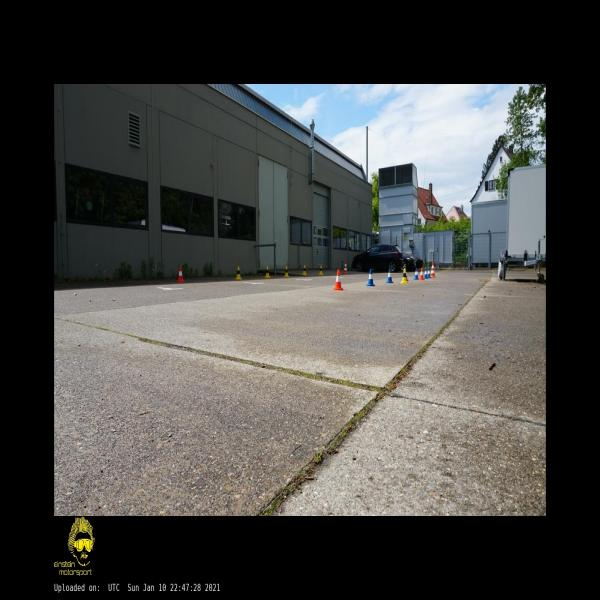blue_cone: (366, 269, 375, 286), (386, 268, 393, 283), (413, 268, 419, 280), (427, 268, 432, 278), (424, 268, 428, 278)
large_orange_cone: (430, 262, 436, 277), (342, 261, 348, 274)
orange_cone: (333, 269, 343, 290), (176, 266, 184, 282), (418, 268, 424, 280)
yellow_cone: (401, 268, 408, 283), (235, 266, 242, 280), (264, 266, 270, 278), (284, 266, 290, 278), (318, 265, 324, 276), (302, 264, 307, 276)
